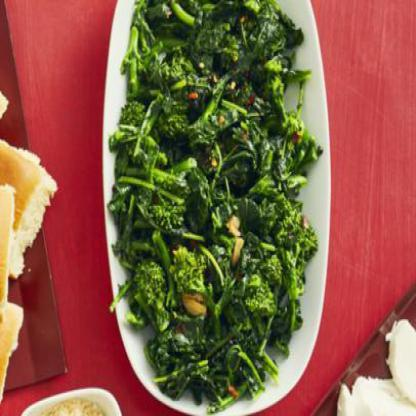broccoli: (102, 0, 324, 415)
